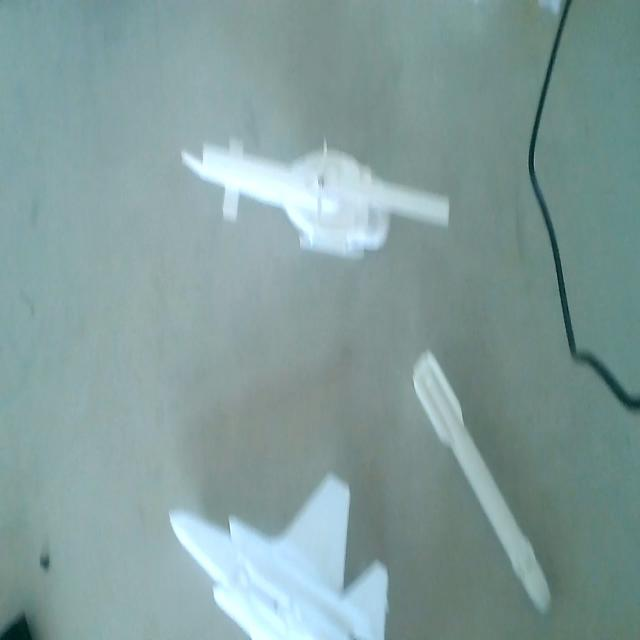Helicopter: (179, 122, 452, 267)
Jet: (164, 477, 390, 640)
Rocket: (412, 344, 553, 620)
